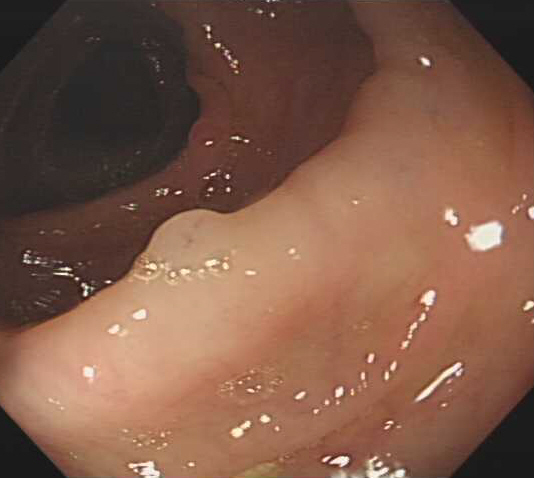others: (140, 207, 230, 267)
